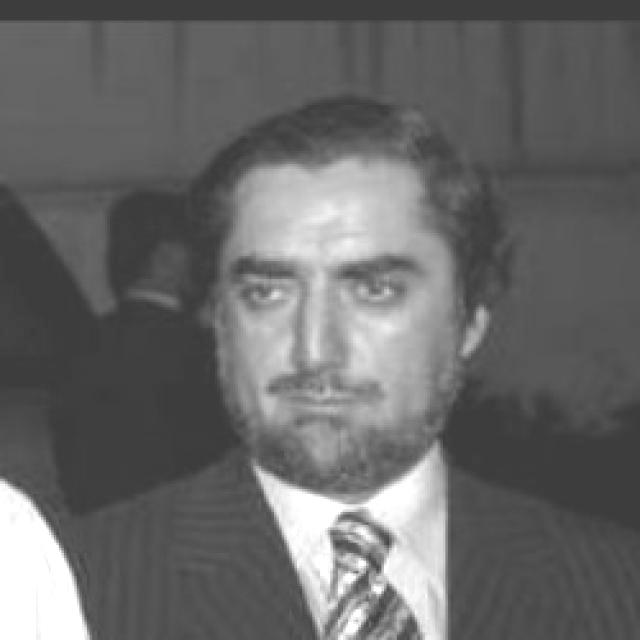real: (218, 104, 485, 482), (239, 264, 409, 320)
